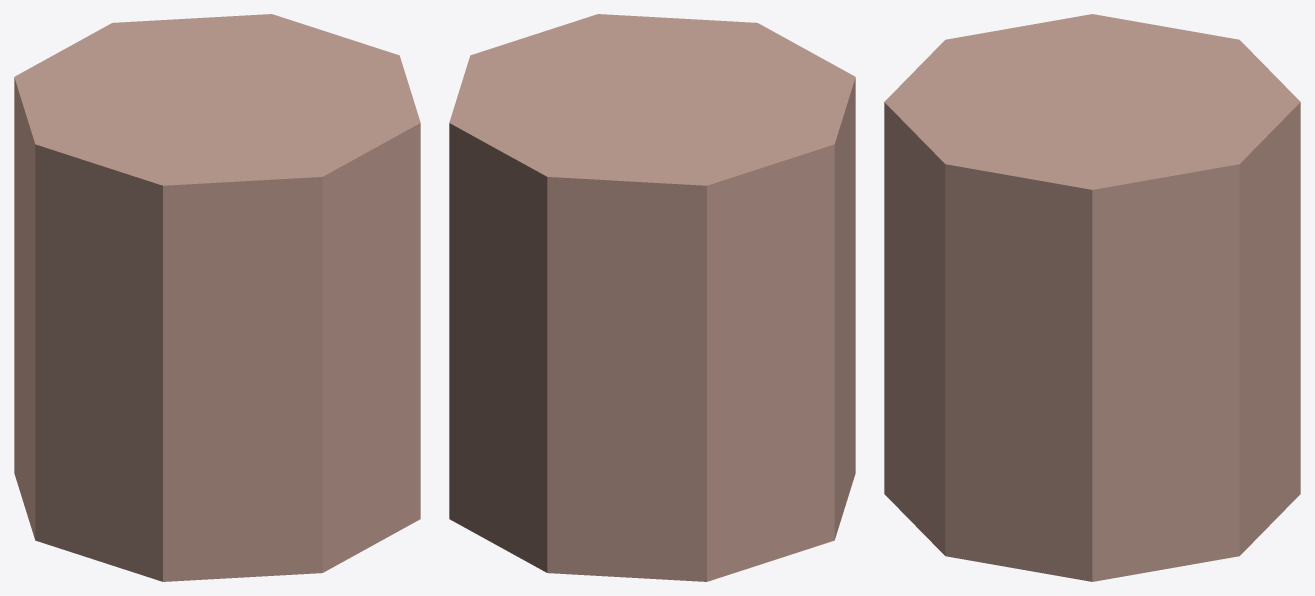
Rendered from low_poly_barrel.glb.
3 views of the same model, side by side, from view 1: azimuth 30°, elevation 25°; view 2: azimuth 150°, elevation 25°; view 3: azimuth 270°, elevation 25° (orthographic).
Parts seen in each view (by area): view 1: Barrel; view 2: Barrel; view 3: Barrel.
Part boxes in pixels (left/top/right/bottom): Barrel: left=14, top=14, right=420, bottom=581; Barrel: left=449, top=14, right=855, bottom=581; Barrel: left=884, top=14, right=1300, bottom=581.
Size of the model in its own units: 0.77 by 0.8 by 0.77.
